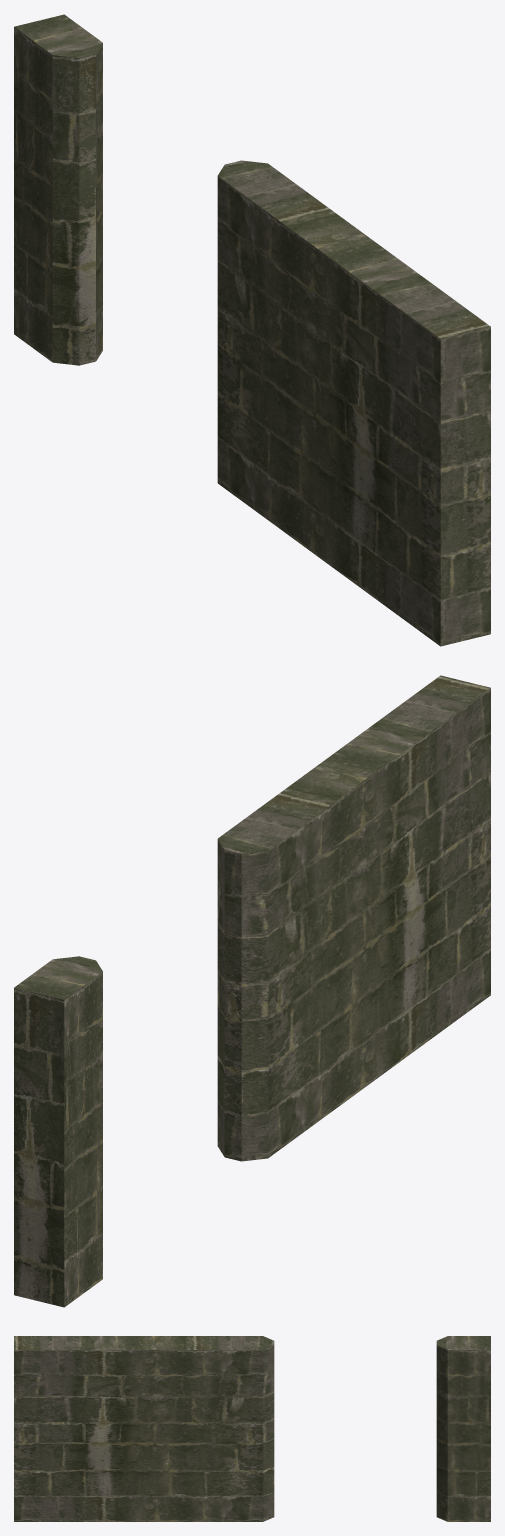
File: HorizontalHalfWall_Archway_R_Pier.fbx
3 views of the same model, one above another, from view 1: azimuth 30°, elevation 25°; view 2: azimuth 150°, elevation 25°; view 3: azimuth 270°, elevation 25° (orthographic). The views are drawn at different scales.
Parts seen in each view (by area): view 1: DoubleDoorway.010; view 2: DoubleDoorway.010; view 3: DoubleDoorway.010.
Boxes of the visible parts, x1=… form: DoubleDoorway.010: x1=14, y1=14, x2=490, y2=646; DoubleDoorway.010: x1=14, y1=675, x2=490, y2=1307; DoubleDoorway.010: x1=14, y1=1336, x2=490, y2=1521.
Size of the model in its own units: 51 by 298 by 748.
